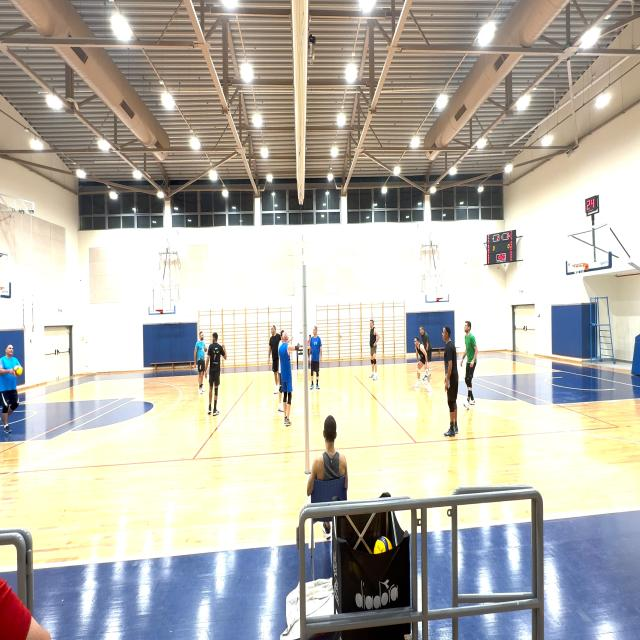volleyball: (373, 536, 393, 555), (15, 365, 22, 376)
